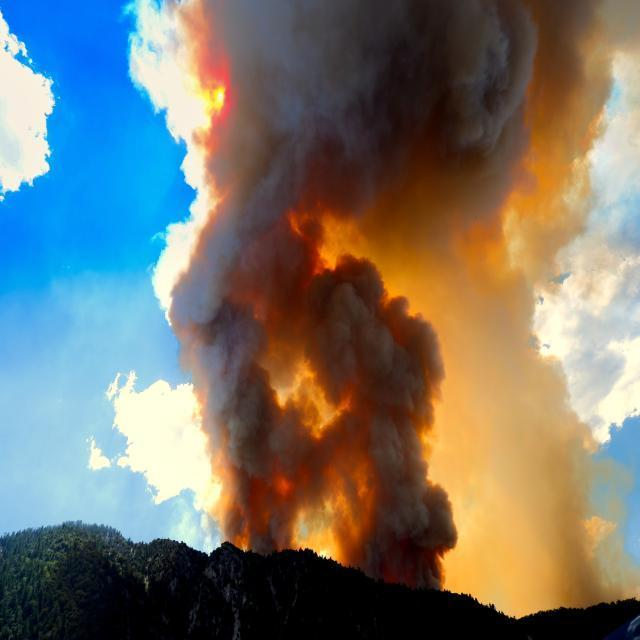Smoke: (185, 0, 636, 606)
